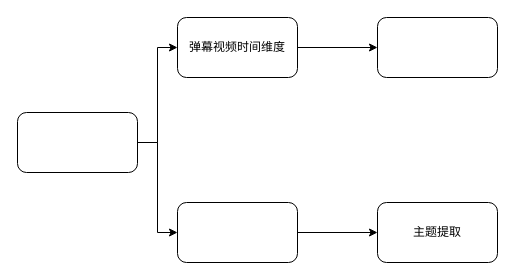
Image size: 515x280. Some labels were removed from this diagram. The centre of each missing label's shape, as x and y in pixels:
图像提取: (x=437, y=47)
疫情时间维度: (x=237, y=232)
